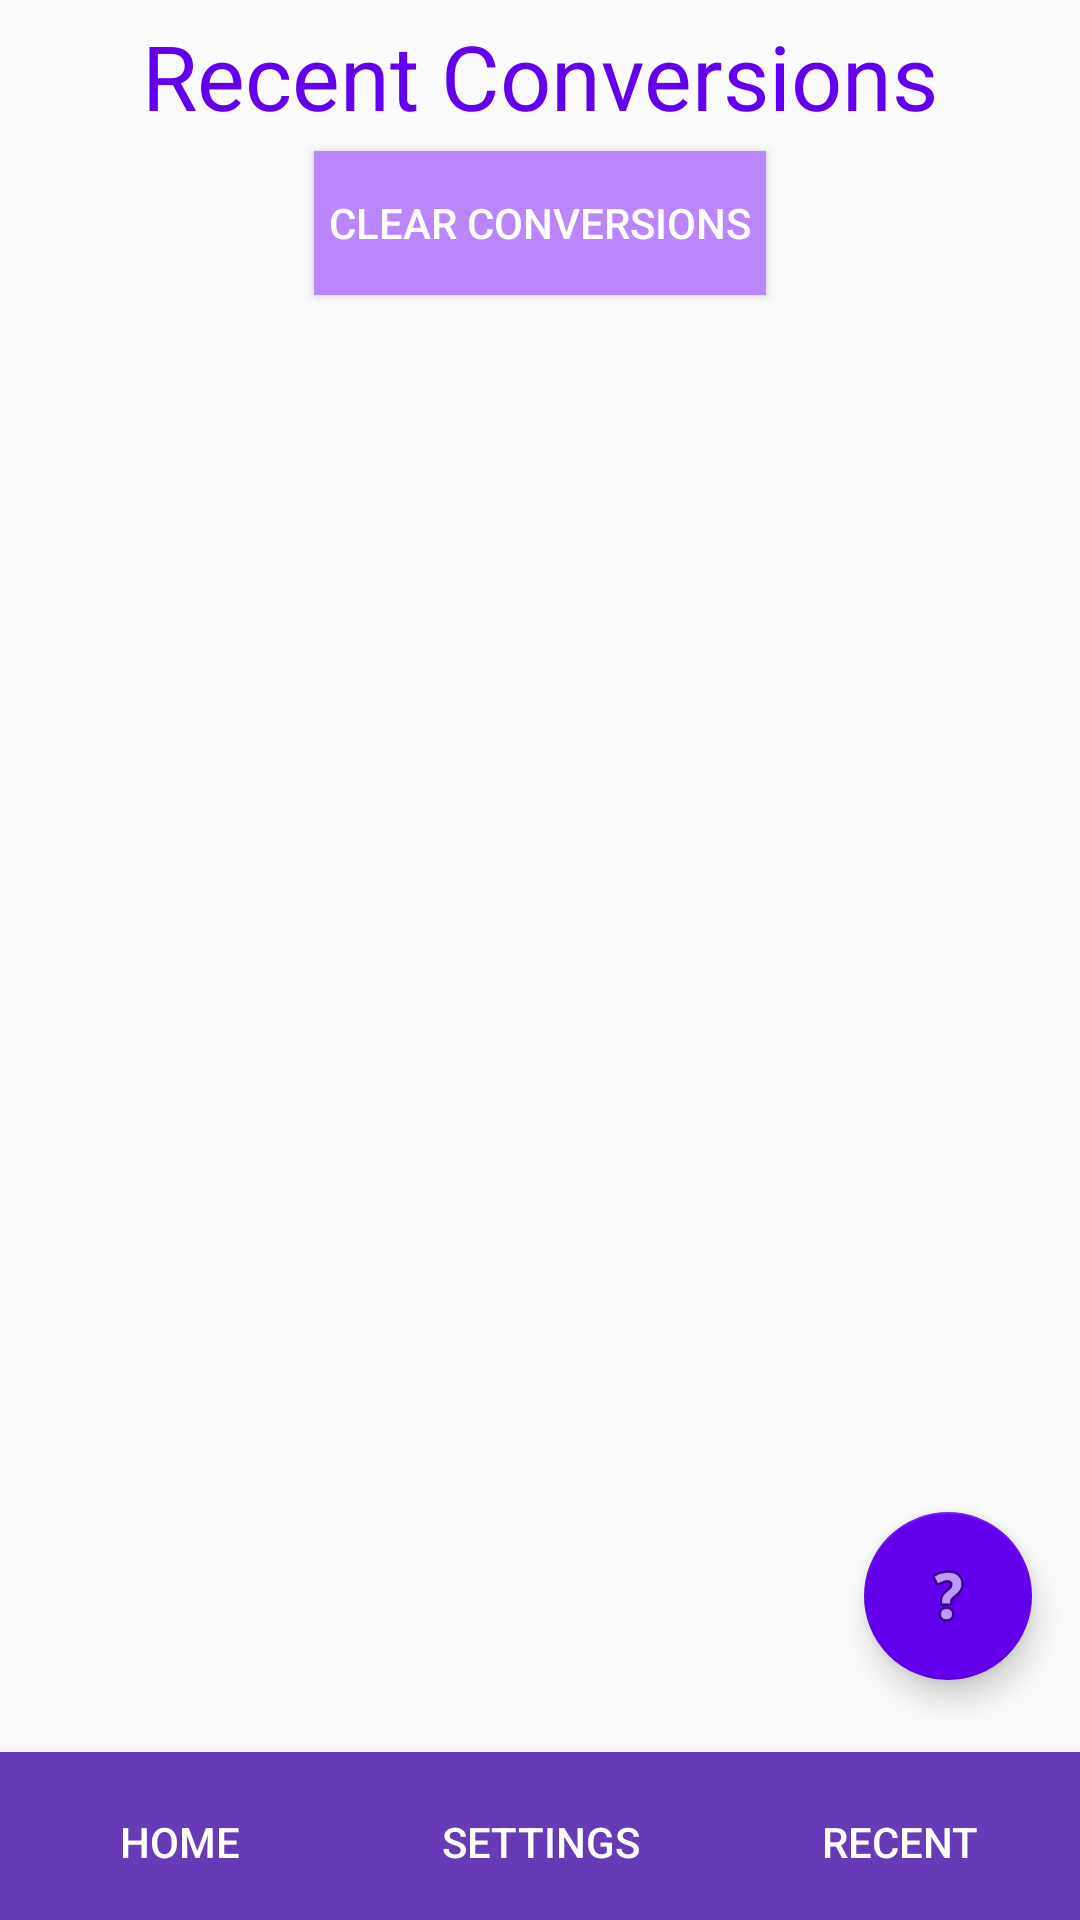

Icons on this 1080x1920 Android screen, each with the point to tap as (x,y):
help: (948,1596)
